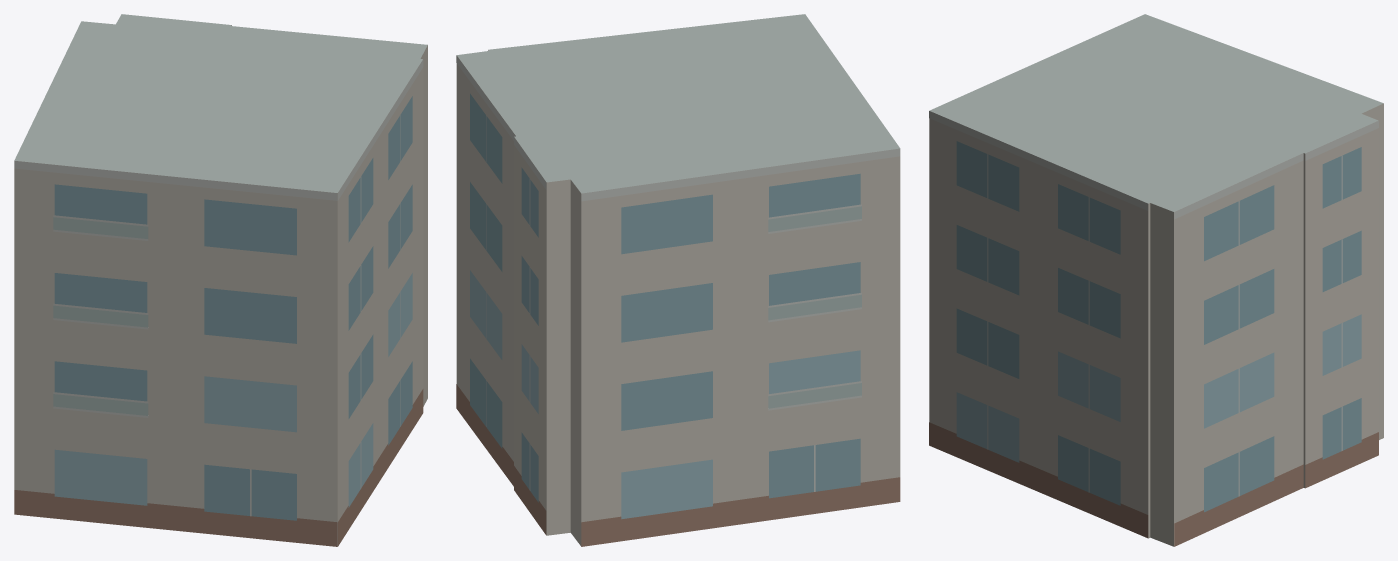
The model's file is survey-upis-32652431.glb.
The picture shows the model from 3 angles, left to right: view 1: azimuth 30°, elevation 25°; view 2: azimuth 150°, elevation 25°; view 3: azimuth 270°, elevation 25°; orthographic projection. The views are drawn at different scales.
Visible parts, largest first — view 1: survey-upis-32652431.tmp; view 2: survey-upis-32652431.tmp; view 3: survey-upis-32652431.tmp.
Boxes of the visible parts, x1=… form: survey-upis-32652431.tmp: x1=14, y1=14, x2=427, y2=546; survey-upis-32652431.tmp: x1=456, y1=14, x2=900, y2=546; survey-upis-32652431.tmp: x1=929, y1=14, x2=1383, y2=546.
Bounding box in the file's own units: 13.97 × 11 × 13.55.
